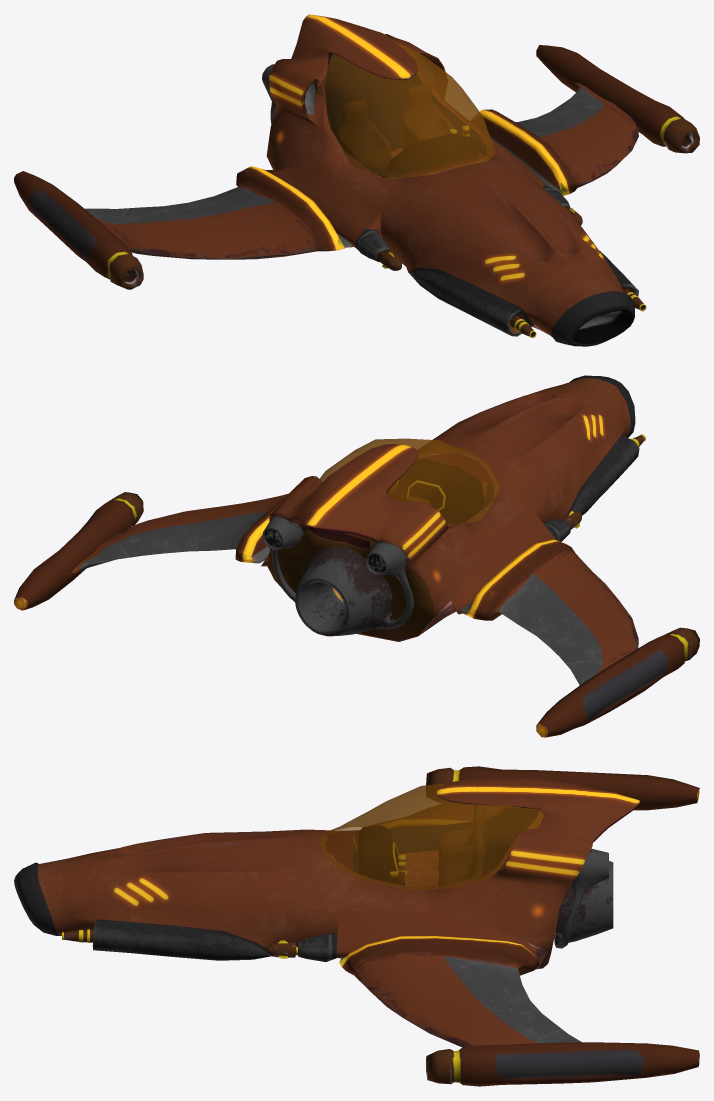
The model's file is space_ship.glb.
The picture shows the model from 3 angles, top to bottom: view 1: azimuth 30°, elevation 25°; view 2: azimuth 150°, elevation 25°; view 3: azimuth 270°, elevation 25°; orthographic projection. The views are drawn at different scales.
Visible parts, largest first — view 1: b_low1, ai_low1, v_low1, t_low1, s_low1, p_low3; view 2: b_low1, ai_low1, t_low1, r_low1, v_low1, p_low3; view 3: b_low1, ai_low1, v_low1, t_low1, r_low1, s_low1, p_low3.
Part boxes in pixels (bbox=[...]): b_low1: bbox=[265, 14, 638, 346]; ai_low1: bbox=[84, 82, 638, 259]; v_low1: bbox=[324, 40, 496, 178]; t_low1: bbox=[14, 45, 699, 289]; s_low1: bbox=[336, 83, 454, 170]; p_low3: bbox=[387, 134, 646, 337]; b_low1: bbox=[261, 375, 639, 641]; ai_low1: bbox=[71, 493, 638, 685]; t_low1: bbox=[14, 492, 699, 737]; r_low1: bbox=[262, 516, 414, 636]; v_low1: bbox=[319, 438, 499, 526]; p_low3: bbox=[387, 434, 645, 524]; b_low1: bbox=[14, 778, 640, 969]; ai_low1: bbox=[339, 827, 581, 1047]; v_low1: bbox=[317, 783, 543, 890]; t_low1: bbox=[426, 766, 699, 1086]; r_low1: bbox=[554, 848, 613, 948]; s_low1: bbox=[438, 805, 484, 885]; p_low3: bbox=[62, 825, 404, 942].
Bounding box in the file's own units: 2 × 0.5224 × 1.97.
2 materials, 2 textured.
